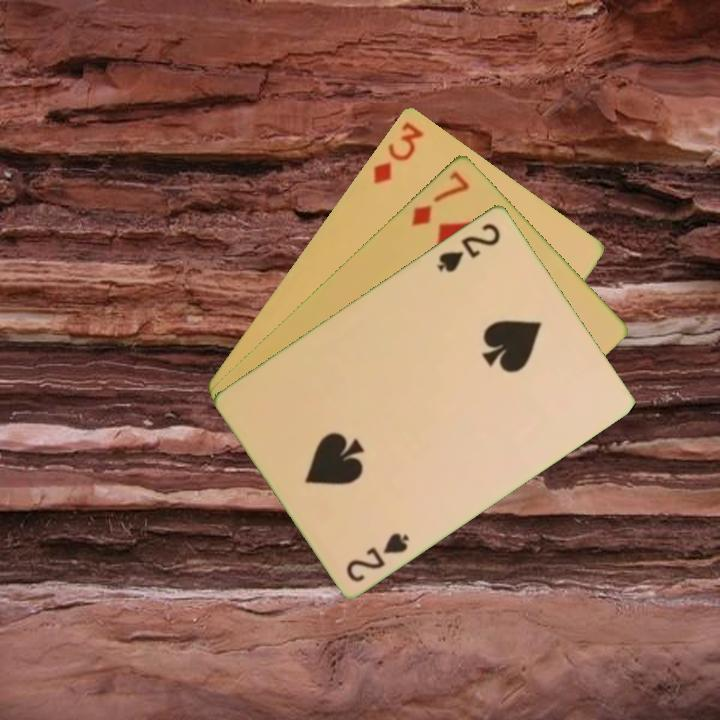2s: (342, 528, 413, 585), (433, 219, 504, 275)
3d: (369, 117, 427, 187)
7d: (408, 166, 473, 229)
